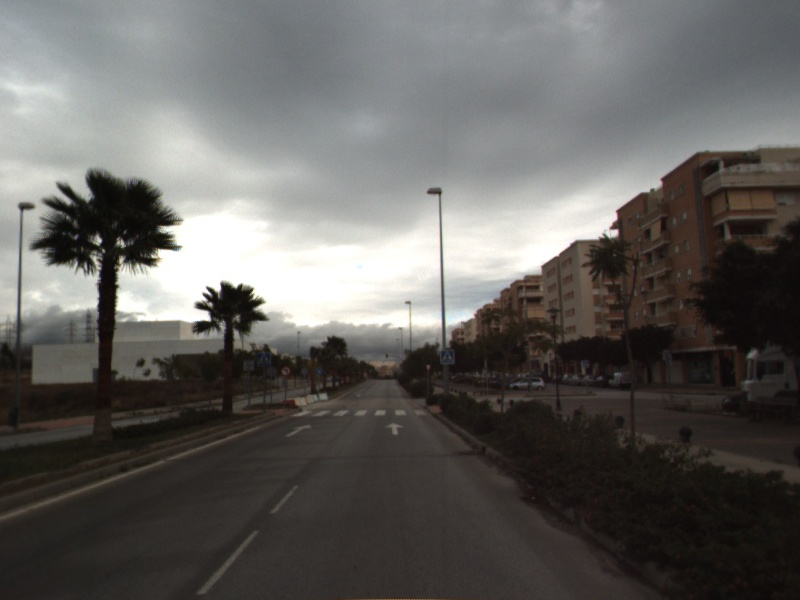STRAIGHT: (283, 422, 314, 439), (383, 421, 406, 437)
